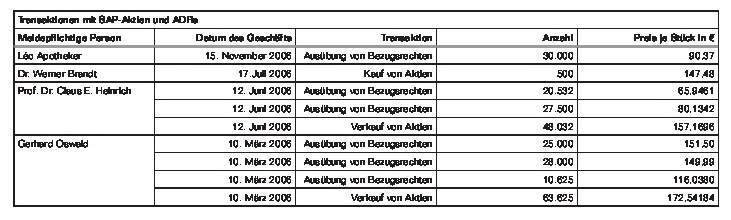table: (0, 0, 731, 220)
